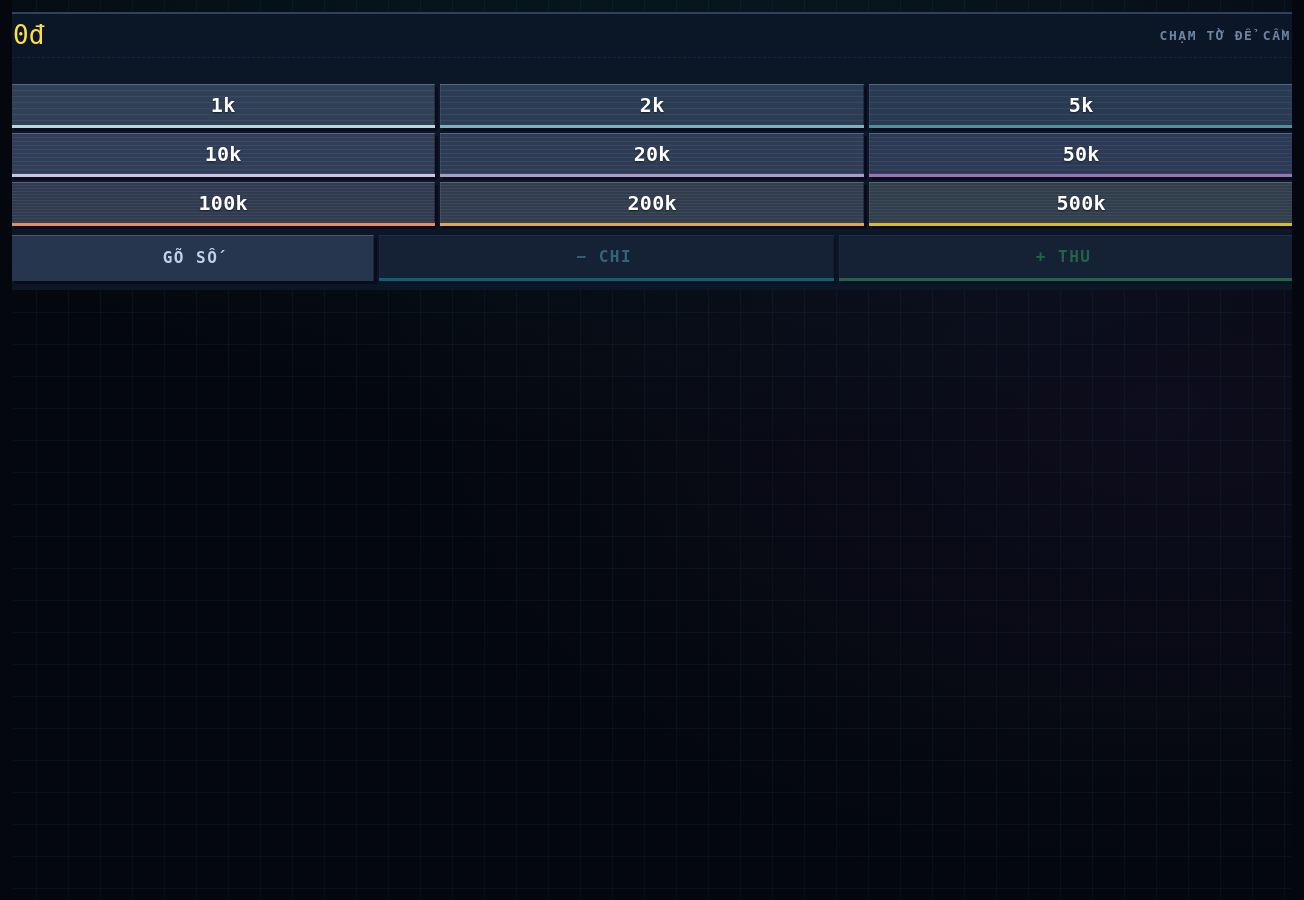
§III — ⭐⭐ bàn phím: MỘT cửa gõ tay › ⭐ "hai triệu" đúng BỐN chạm: ⌨ · 2 · 000 · 000
This screenshot has width=1304, height=900.
Click the button titled "Chạm để gõ số" at [193, 258], box [11, 235, 374, 281]
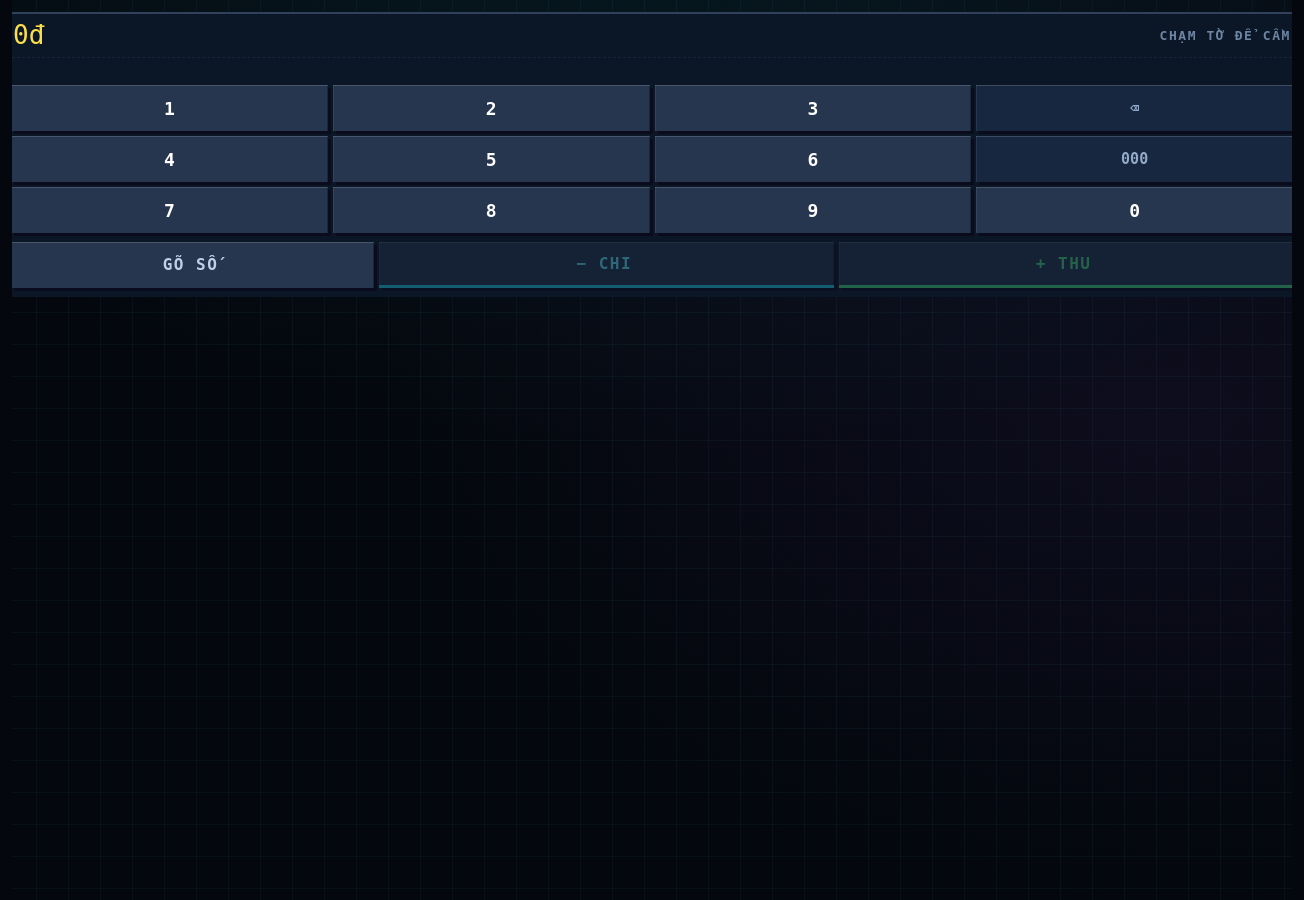
Click the button "2" at [491, 108], box [333, 85, 650, 131]
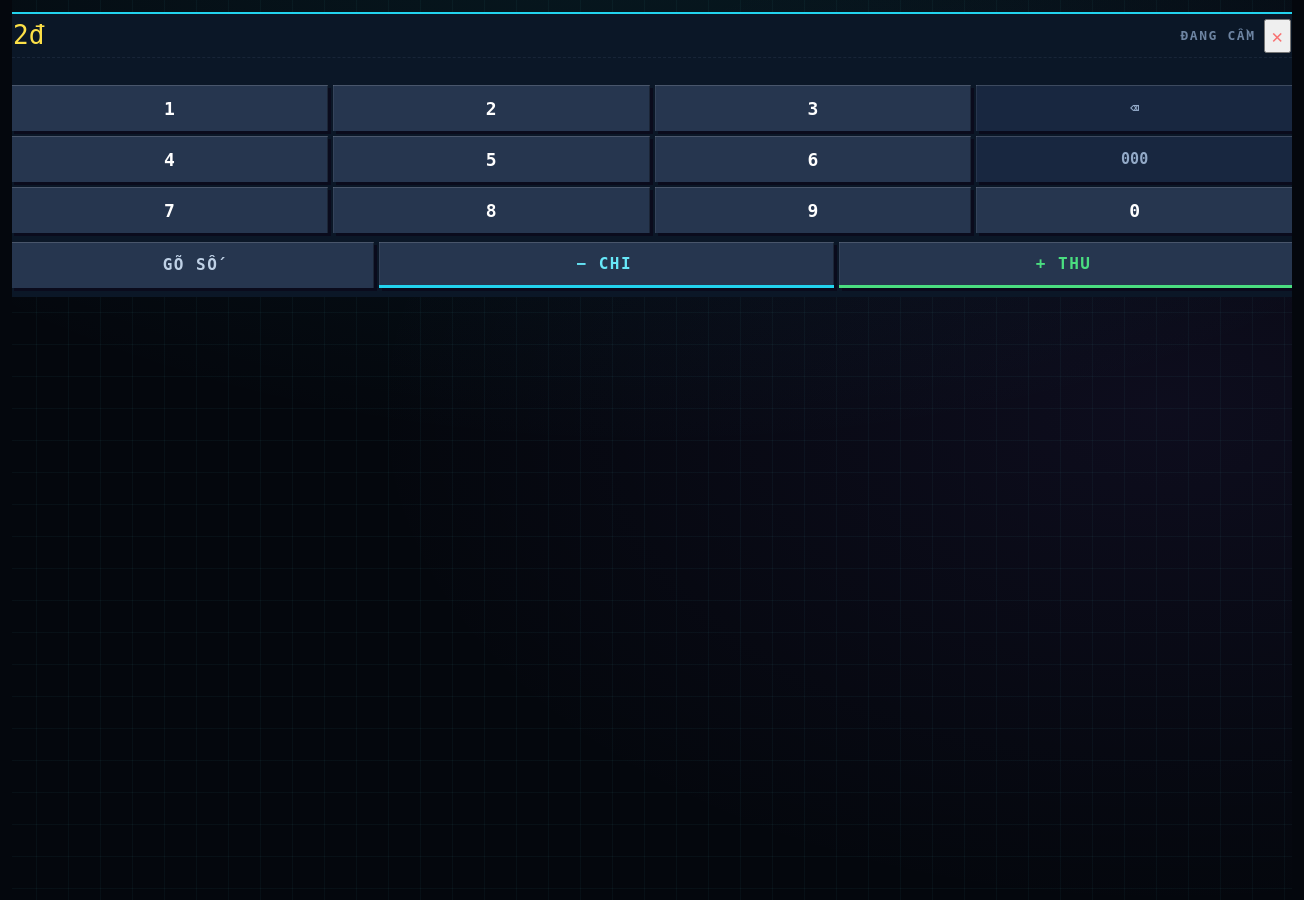
Click the button "000" at [1134, 159], box [976, 136, 1292, 182]
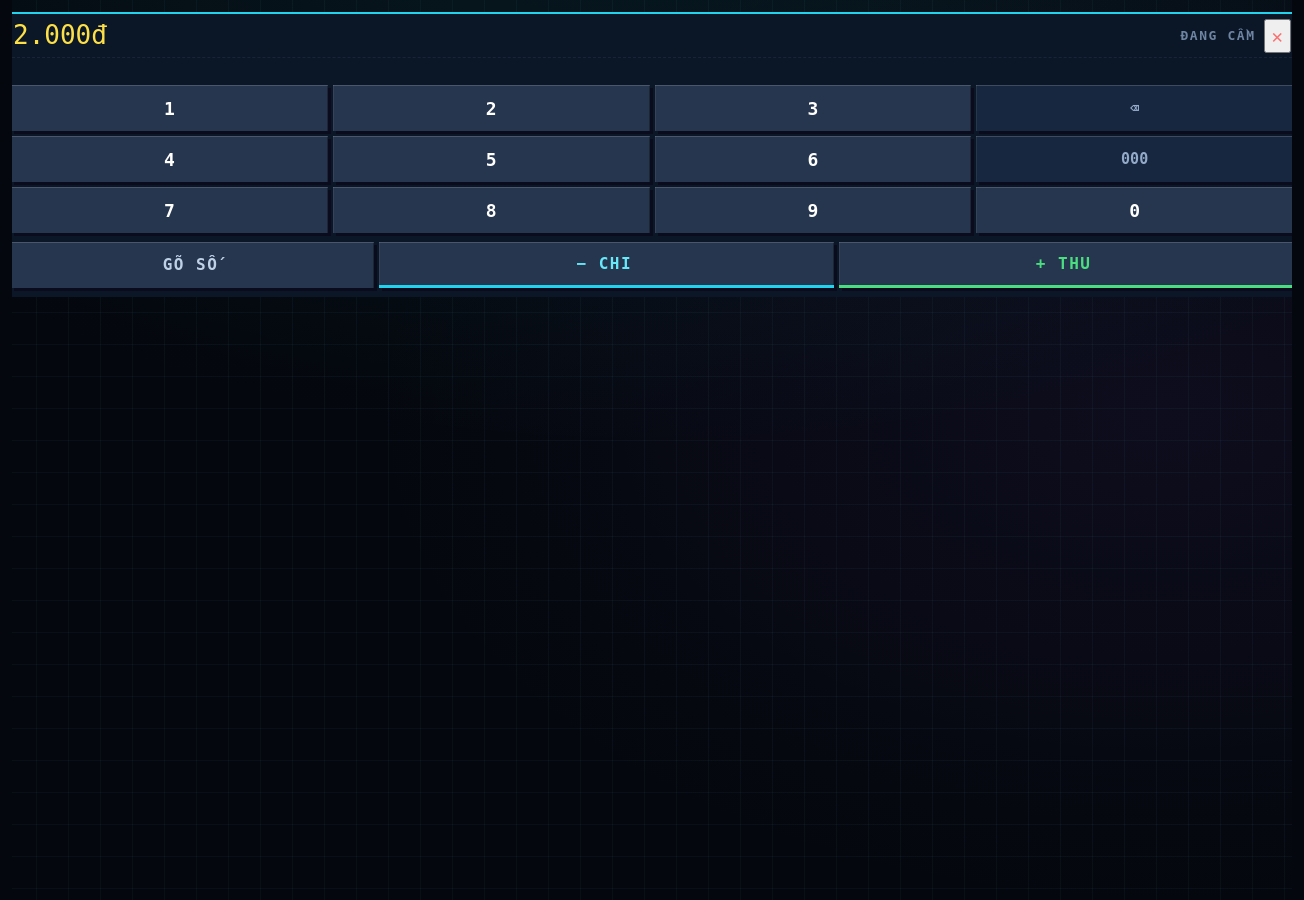
Click the button "000" at [1134, 159], box [976, 136, 1292, 182]
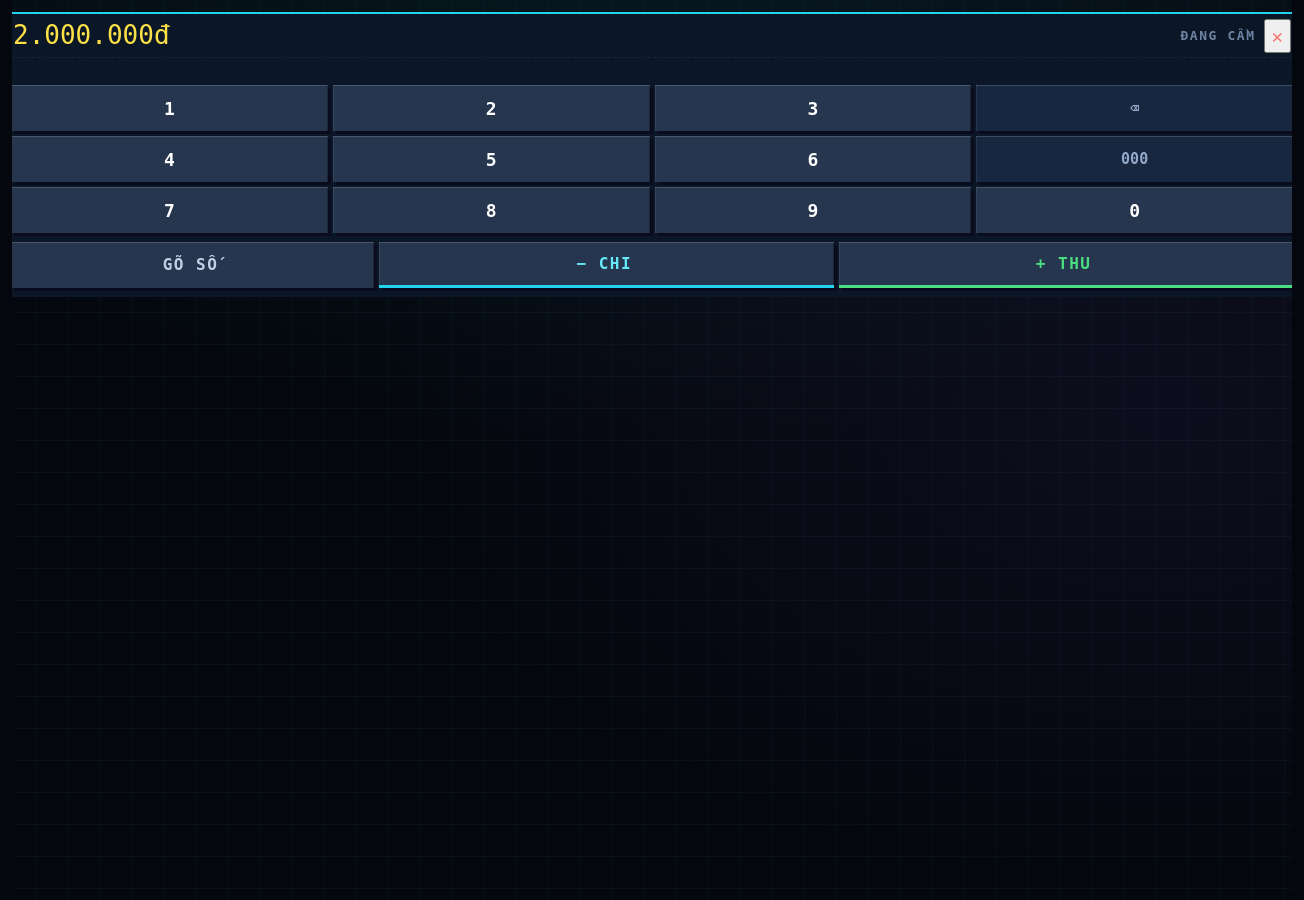
Expected: the text with test id "khay-tong" reads "2.000.000đ", [13, 20, 170, 50]
